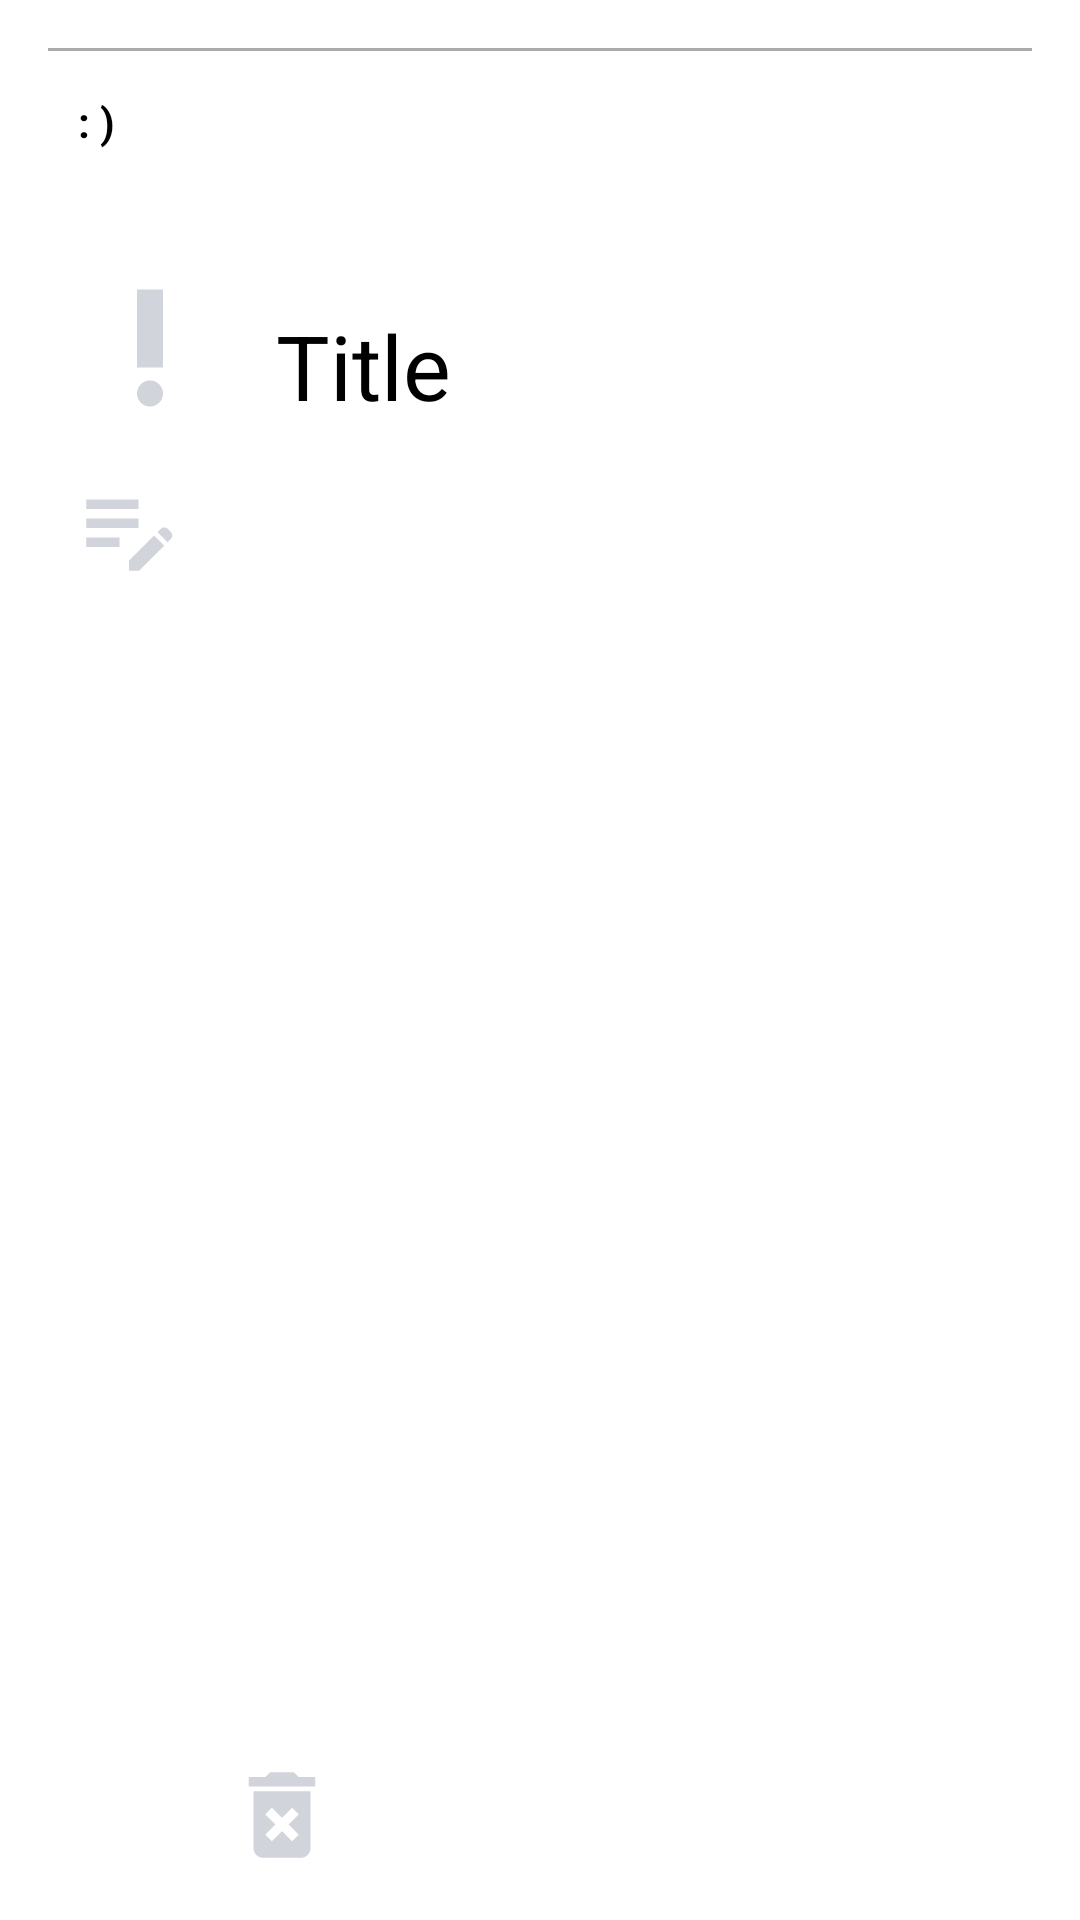

Icon bounding boxes for this 1080px x 1920px phone screenshot, format (x1, y1, x2, y2):
delete: (249, 1772, 315, 1858)
edit: (86, 500, 172, 571)
